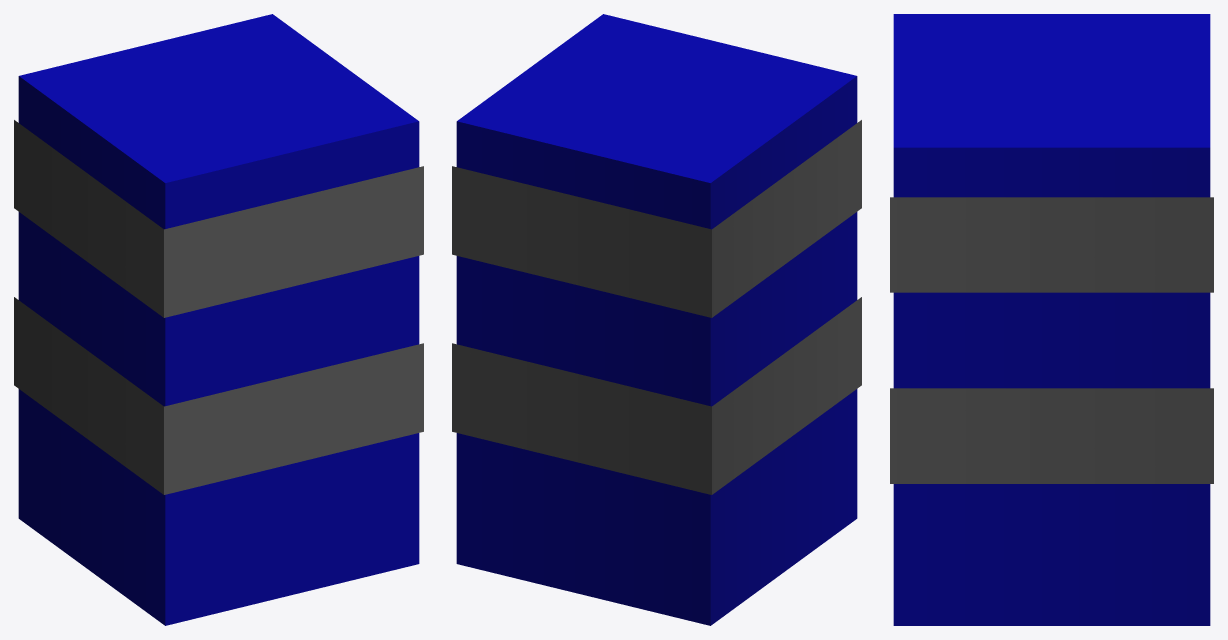
The model's file is office-small.glb.
3 renders of one model, left to right at view 1: azimuth 30°, elevation 25°; view 2: azimuth 150°, elevation 25°; view 3: azimuth 270°, elevation 25°, orthographic. The views are drawn at different scales.
Parts seen in each view (by area): view 1: mesh0; view 2: mesh0; view 3: mesh0.
Boxes of the visible parts, box(x1,y1,x2,y2) form: mesh0: box(14, 14, 423, 625); mesh0: box(452, 14, 861, 625); mesh0: box(890, 14, 1213, 625).
Size of the model in its own units: 0.614 by 1 by 0.614.
